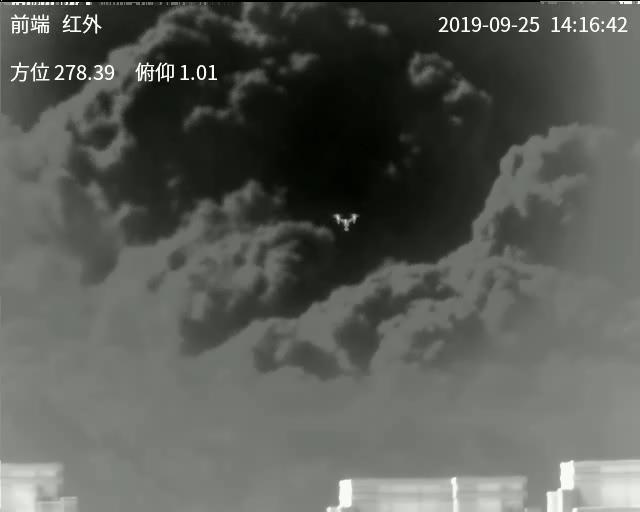uav: (332, 208, 358, 231)
